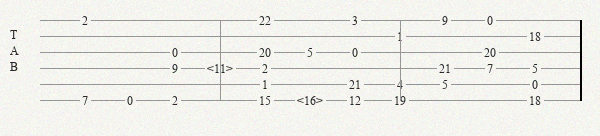0: (127, 94, 137, 107), (172, 46, 182, 59), (352, 46, 362, 59), (487, 14, 497, 27), (532, 78, 542, 91)
1: (262, 78, 272, 91), (397, 30, 407, 43)
12: (349, 94, 365, 107)
15: (259, 94, 275, 107)
18: (529, 94, 545, 107), (529, 30, 545, 43)
19: (394, 94, 410, 107)
2: (82, 14, 92, 27), (172, 94, 182, 107), (262, 62, 272, 75)
20: (259, 46, 275, 59), (484, 46, 500, 59)
21: (349, 78, 365, 91), (439, 62, 455, 75)
22: (259, 14, 275, 27)
3: (352, 14, 362, 27)
4: (397, 78, 407, 91)
5: (307, 46, 317, 59), (442, 78, 452, 91), (532, 62, 542, 75)
7: (82, 94, 92, 107), (487, 62, 497, 75)
9: (172, 62, 182, 75), (442, 14, 452, 27)
harmonic: (207, 62, 237, 75), (297, 94, 327, 107)
